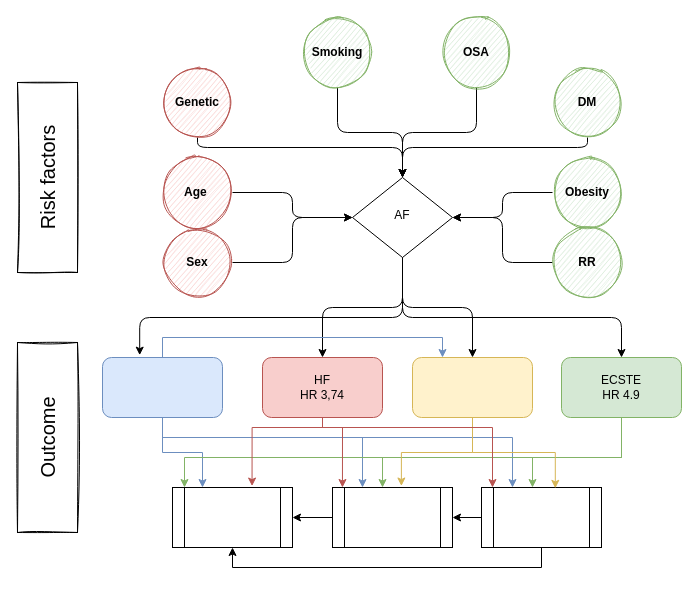
Some shapes in this 699 by 593 pixel diagram are drawn without their labels. The shapes that lost their labels are listed below. From the top down, each one's centre as x and y in pixels, then its label:
(162,387): Stroke HR 2.5
(472,387): Dementia HR 1,43
(232,517): Death
(392,517): Hospital care
(541,517): Disability
